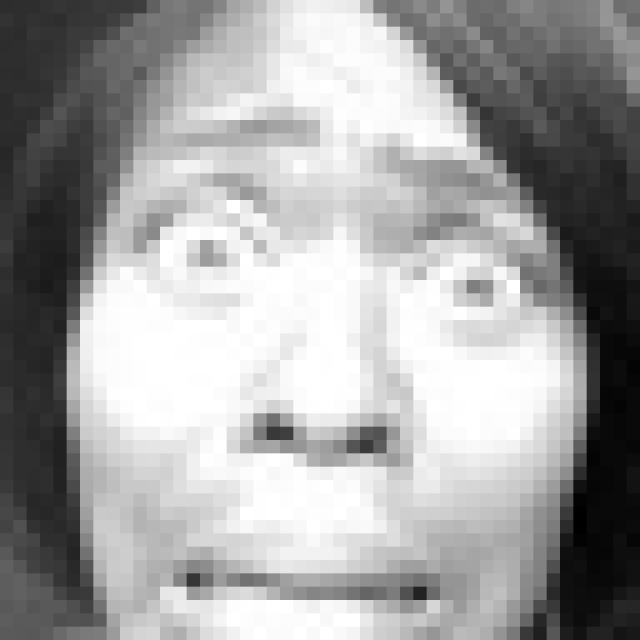fear: (126, 102, 560, 640)
